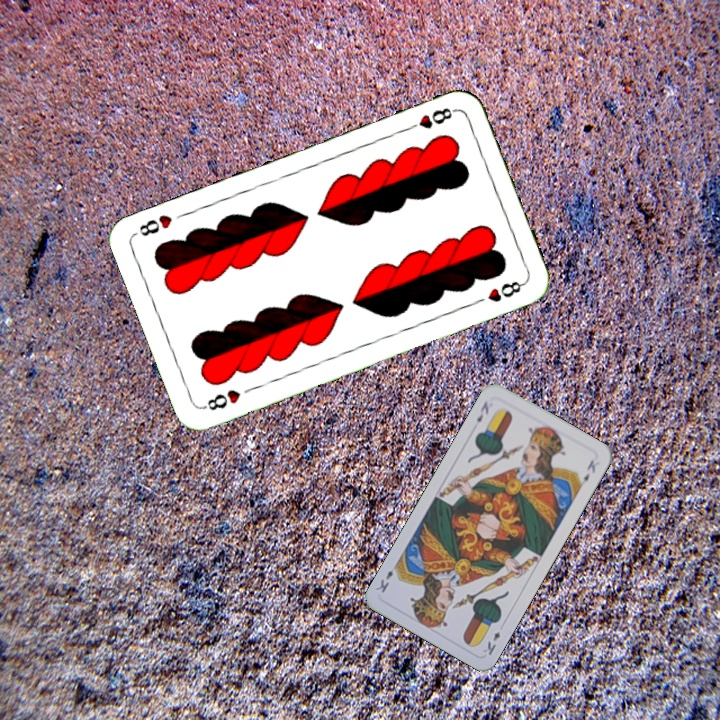EK: (479, 627, 503, 658), (472, 397, 491, 425)
H8: (402, 103, 459, 134), (199, 385, 244, 413)
